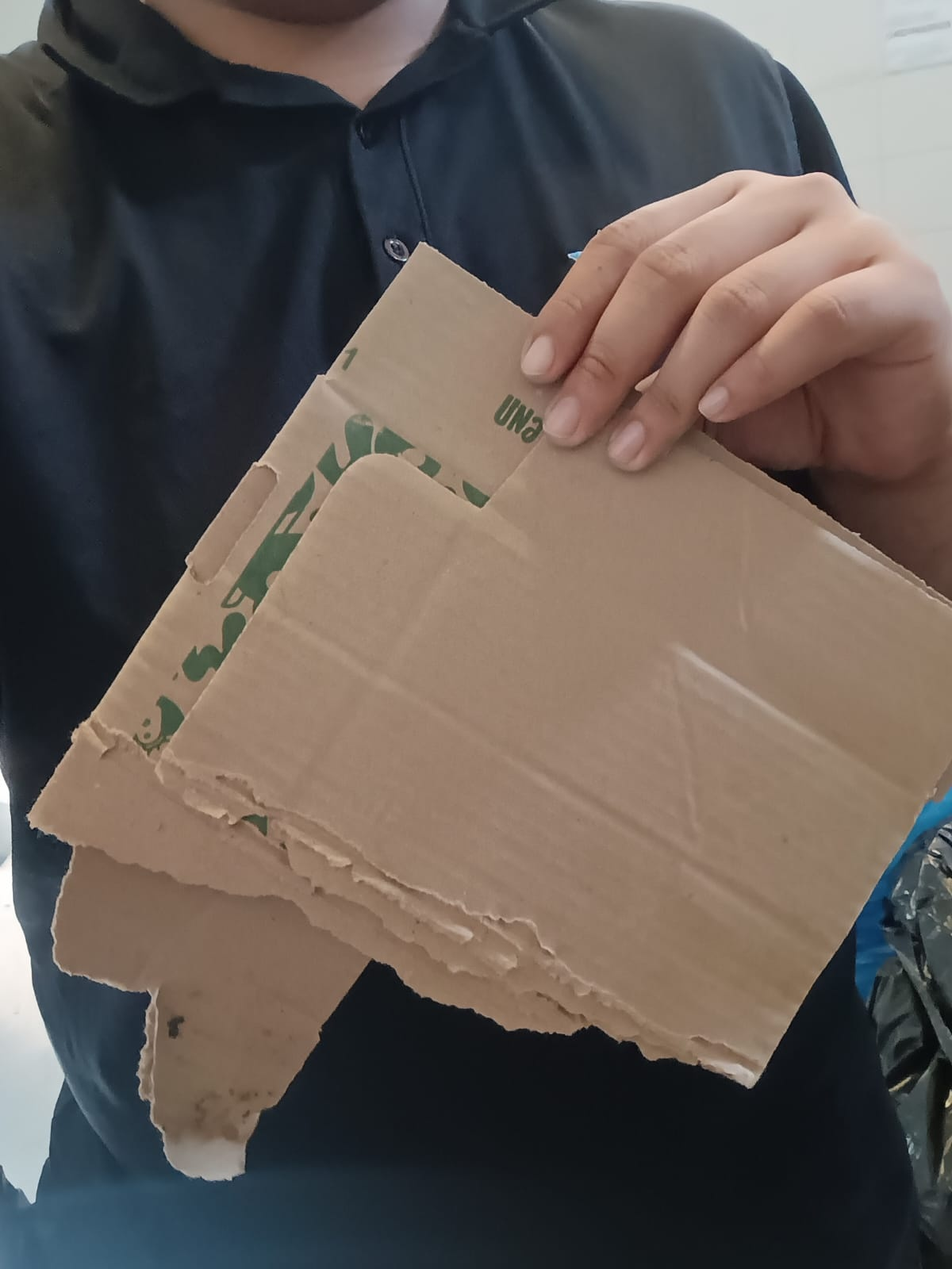Carton: (0, 242, 947, 1186)
